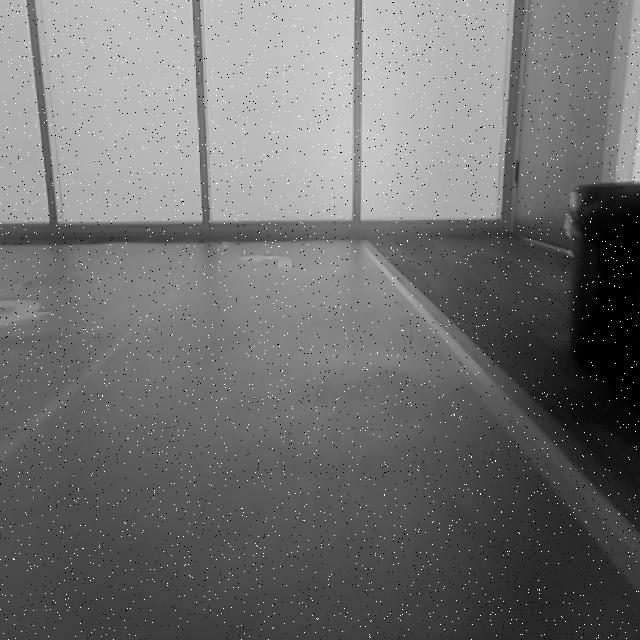left_lane: (0, 284, 179, 463)
right_lane: (369, 253, 640, 595)
